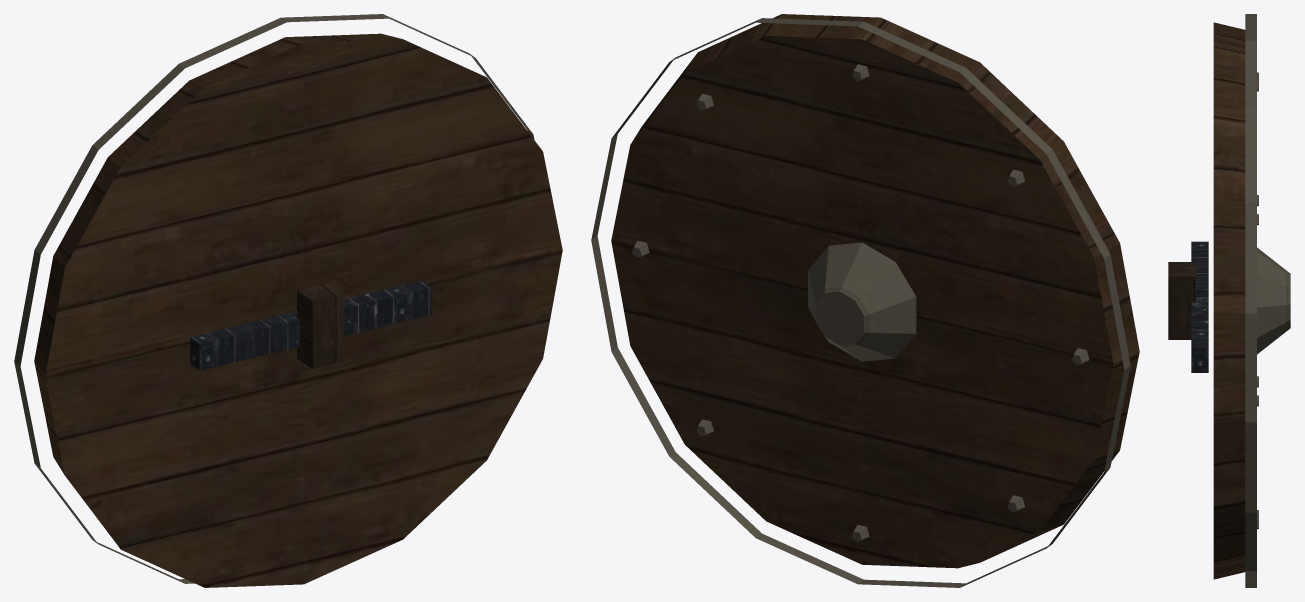
File: wpn_shield_common.glb
3 views of the same model, side by side, from view 1: azimuth 30°, elevation 25°; view 2: azimuth 150°, elevation 25°; view 3: azimuth 270°, elevation 25° (orthographic). The views are drawn at different scales.
Parts seen in each view (by area): view 1: wpn_shield_common; view 2: wpn_shield_common; view 3: wpn_shield_common.
Boxes of the visible parts, x1,y1,x2,y2 form: wpn_shield_common: (14,14,562,587); wpn_shield_common: (591,14,1139,587); wpn_shield_common: (1168,14,1290,587).
Size of the model in its own units: 0.824 by 0.824 by 0.175.
4 materials, 4 textured.
